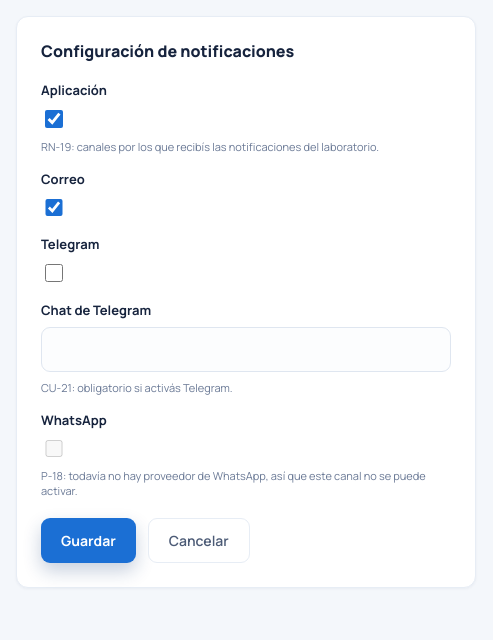
Test: ConfiguracionNotificaciones › el formulario queda con lo que devolvió el backend
Expected: the checkbox labelled "Aplicación" is shown, [45,110,63,128]
Click the button "Guardar" at [88, 541], box [41,518,136,563]
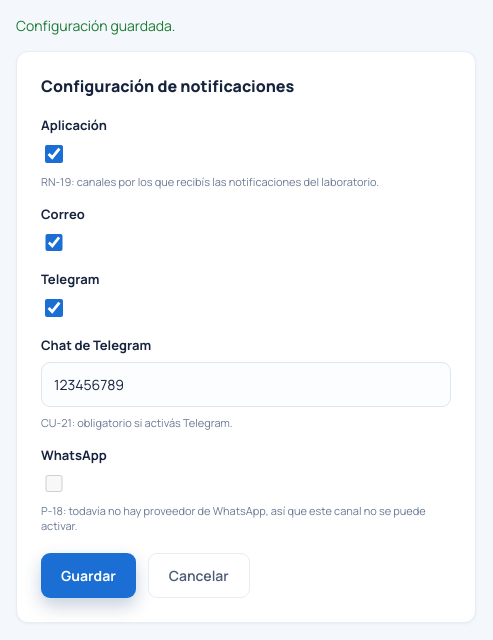
Now the message "Configuración guardada." is shown, box [16,16,175,35]
Now the checkbox labelled "Telegram" is checked, box [45,299,63,317]
Now the field labelled "Chat de Telegram" holds "123456789", box [41,362,451,407]
